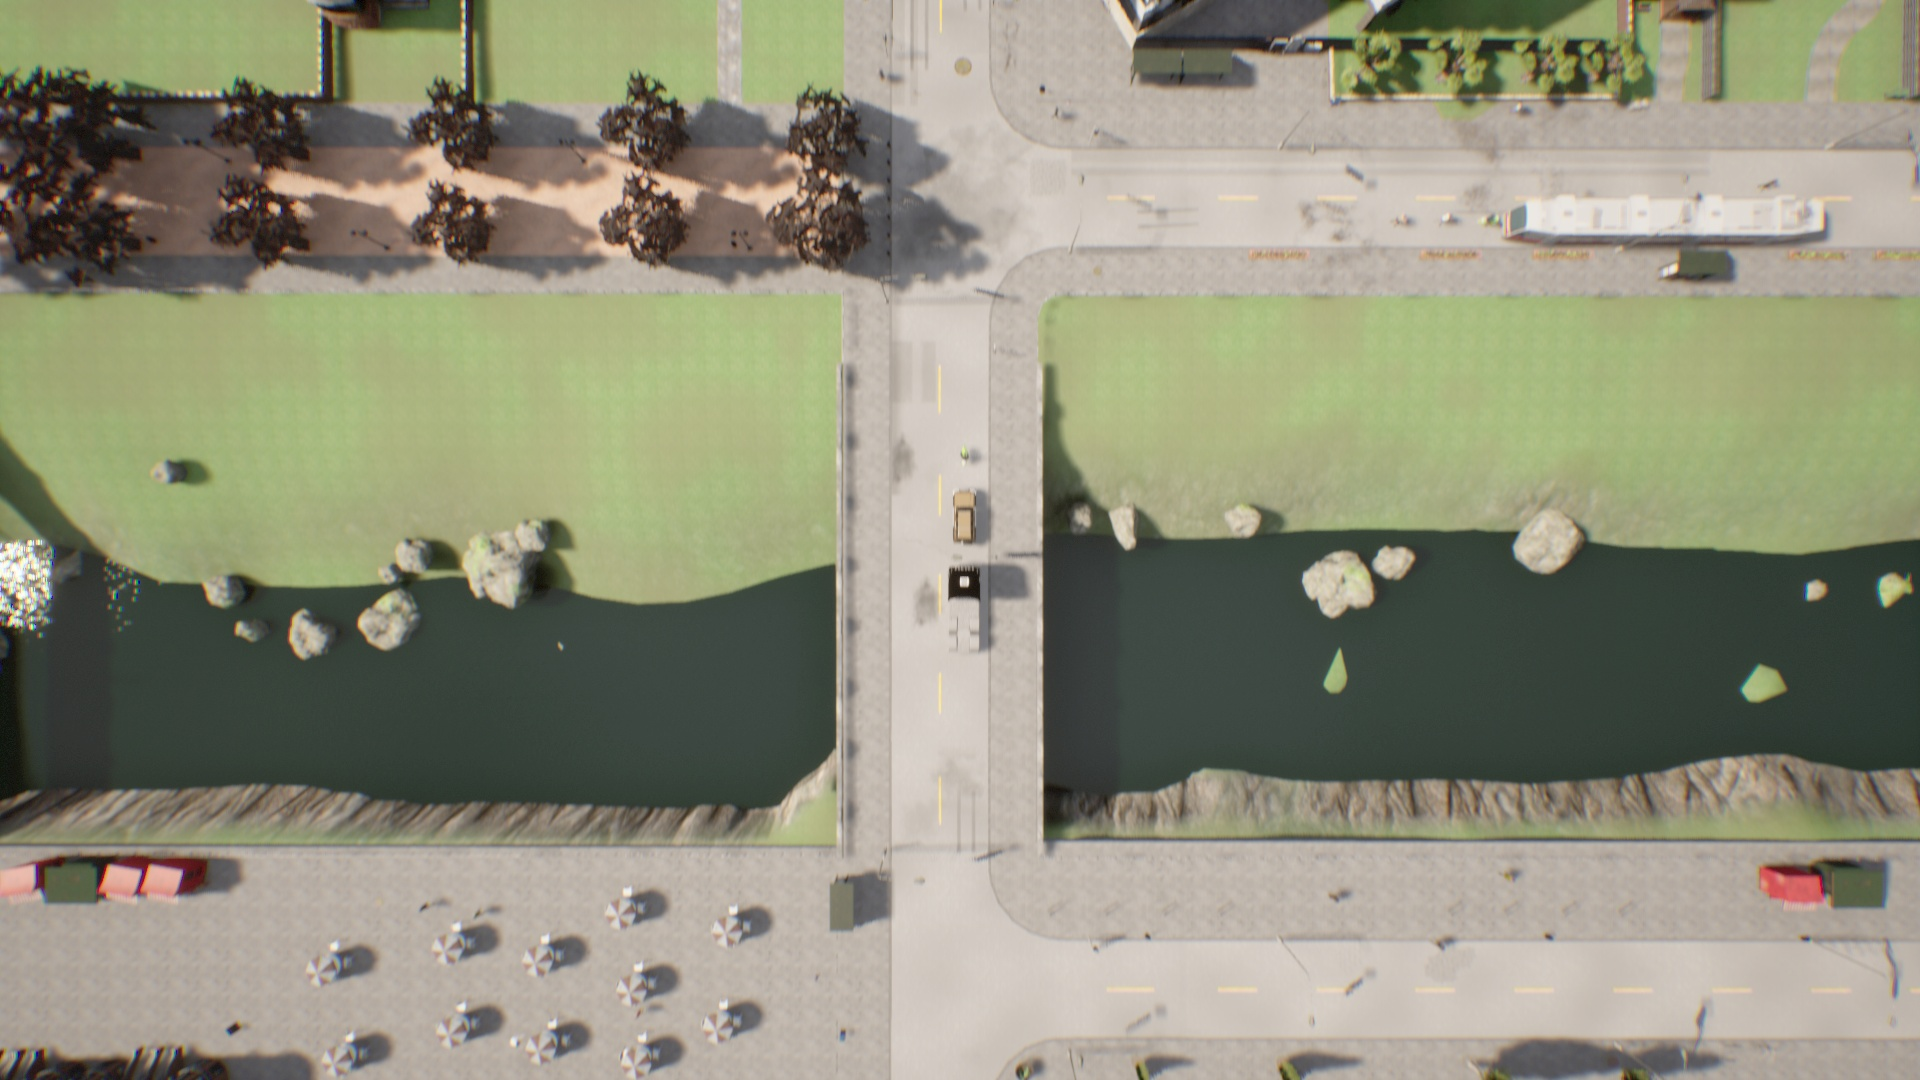Bus: (1498, 204, 1837, 241)
Car: (952, 491, 983, 547)
Motorcycle: (1397, 211, 1419, 225), (1442, 213, 1459, 224)
Truck: (952, 575, 983, 655)
